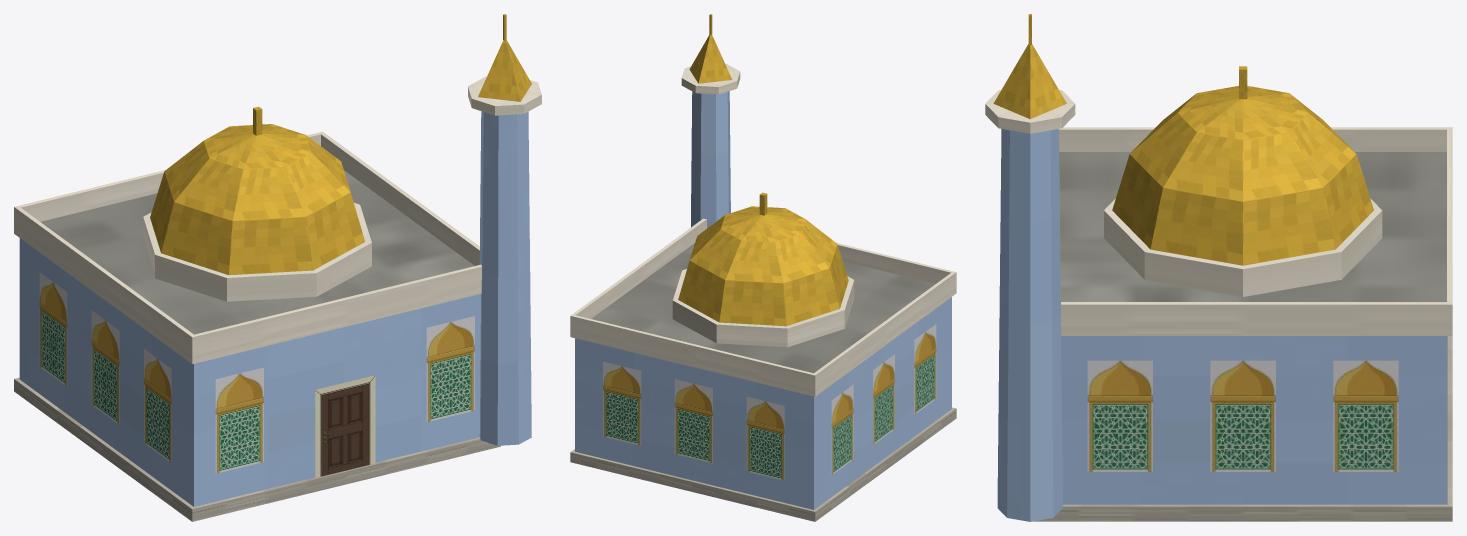
The model's file is mosque-sky-far.glb.
3 renders of one model, left to right at view 1: azimuth 30°, elevation 25°; view 2: azimuth 150°, elevation 25°; view 3: azimuth 270°, elevation 25°, orthographic. The views are drawn at different scales.
Visible parts, largest first — view 1: mosque-sky-far; view 2: mosque-sky-far; view 3: mosque-sky-far.
Boxes of the visible parts, x1,y1,x2,y2 form: mosque-sky-far: (14, 14, 541, 521); mosque-sky-far: (570, 14, 956, 521); mosque-sky-far: (985, 14, 1452, 521).
Bounding box in the file's own units: 11.42 × 13.7 × 11.42.
1 material, 1 textured.
